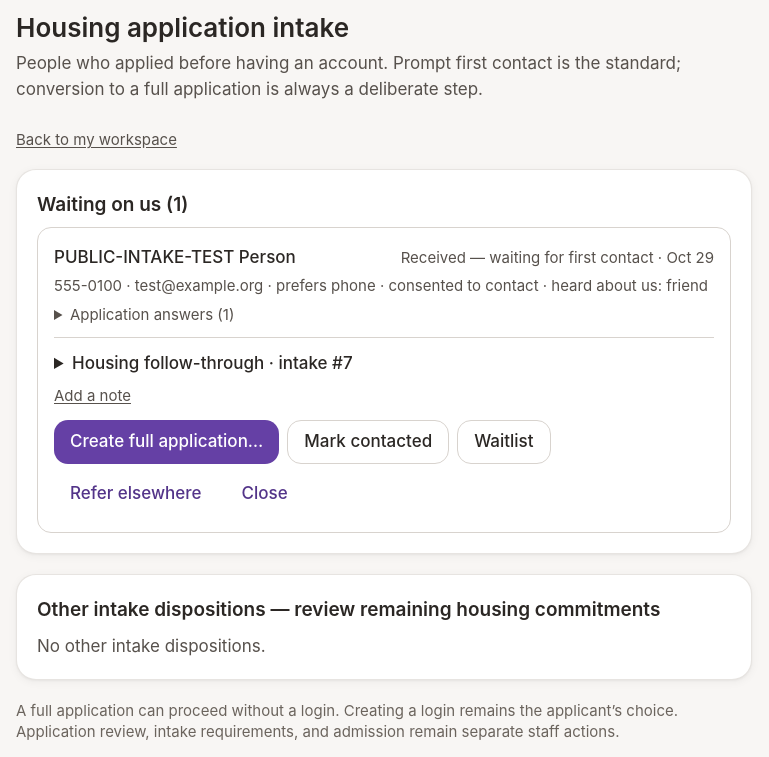
IntakeQueuePage › moves a row through the audited review RPC
Click the button "Mark contacted": point(368, 442) top-left (287, 420), bottom-right (449, 464)
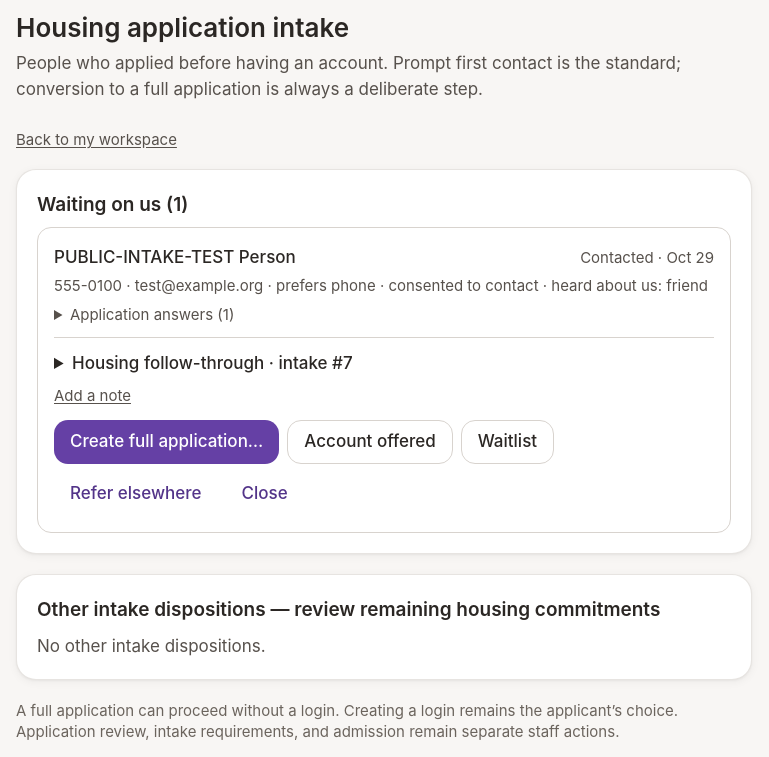
Result: the text "Contacted · Oct 29" is shown at top-left (580, 247), bottom-right (714, 268)
